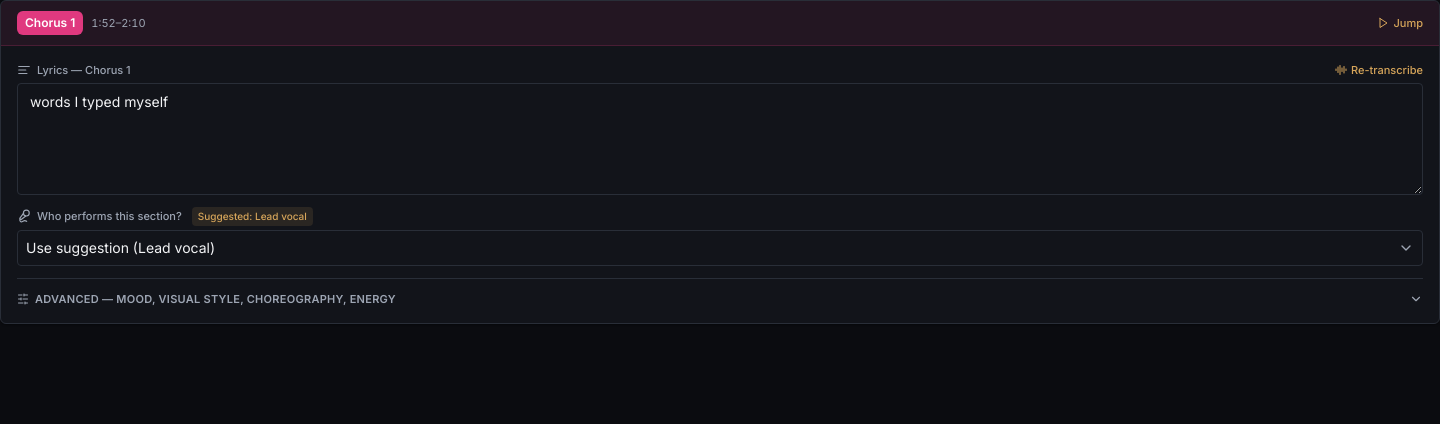
Test: SectionEditor transcription › never replaces written lyrics without asking
The width and height of the screenshot is (1440, 424).
Click the button "Re-transcribe": (1379,70) [1335,62,1423,78]
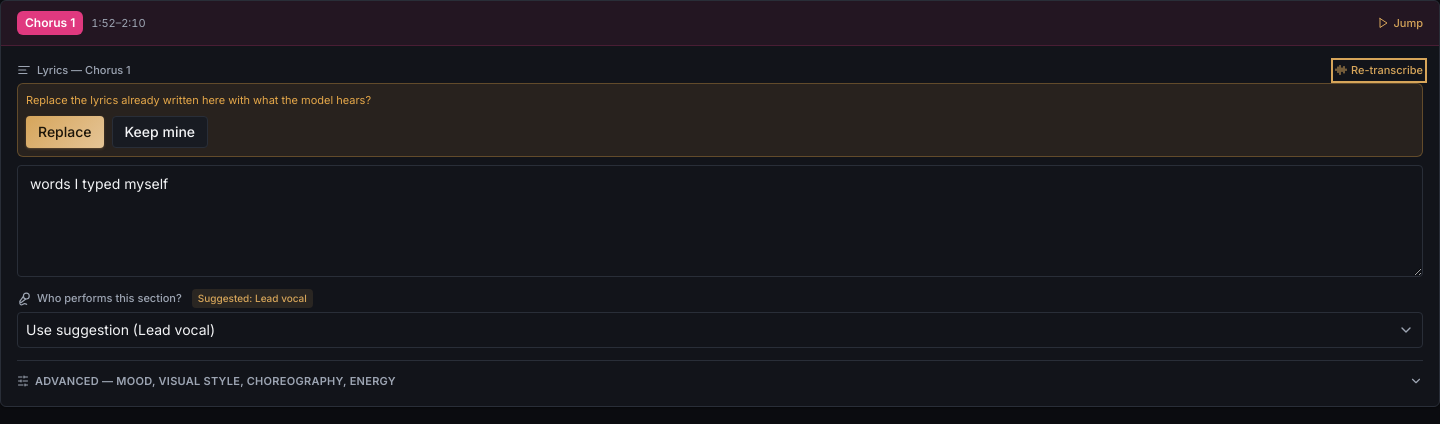
expect the text "Replace the lyrics already written" is shown: met, box [26,92,371,106]
